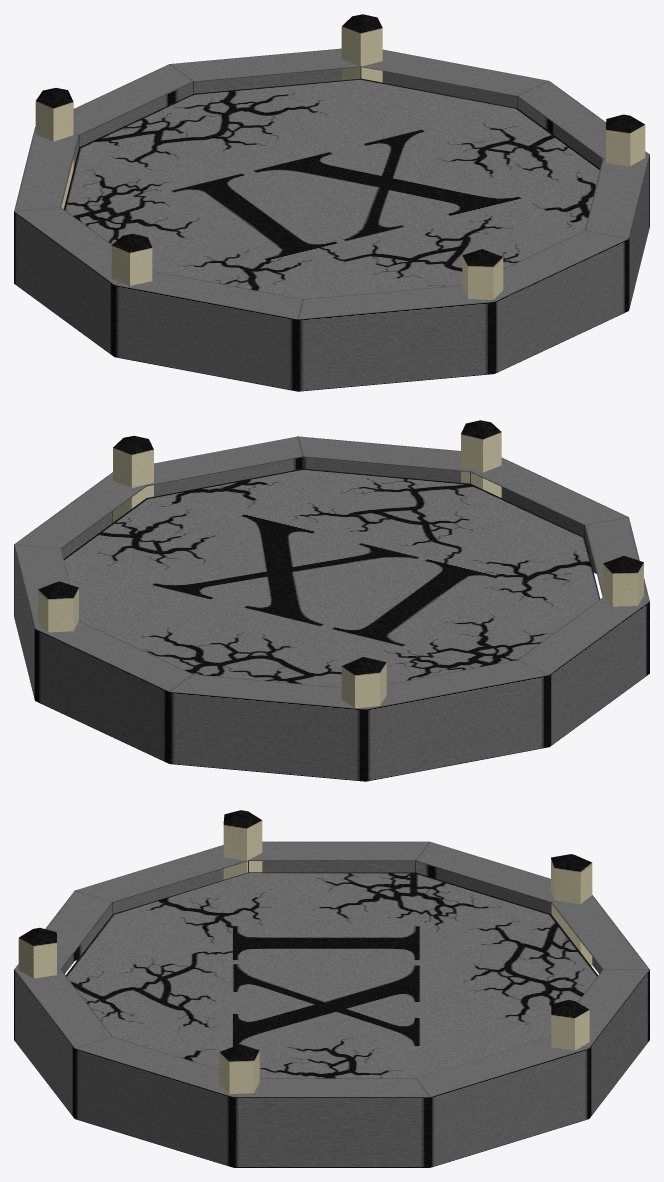
File: Checkpoint_1.fbx
3 renders of one model, top to bottom at view 1: azimuth 30°, elevation 25°; view 2: azimuth 150°, elevation 25°; view 3: azimuth 270°, elevation 25°, orthographic. The views are drawn at different scales.
Visible parts, largest first — view 1: Checkpoint_1; view 2: Checkpoint_1; view 3: Checkpoint_1.
Boxes of the visible parts, x1=… form: Checkpoint_1: x1=14, y1=14, x2=649, y2=391; Checkpoint_1: x1=14, y1=420, x2=649, y2=781; Checkpoint_1: x1=14, y1=810, x2=649, y2=1167.
Size of the model in its own units: 428 by 88 by 450.
1 material, 1 textured.
